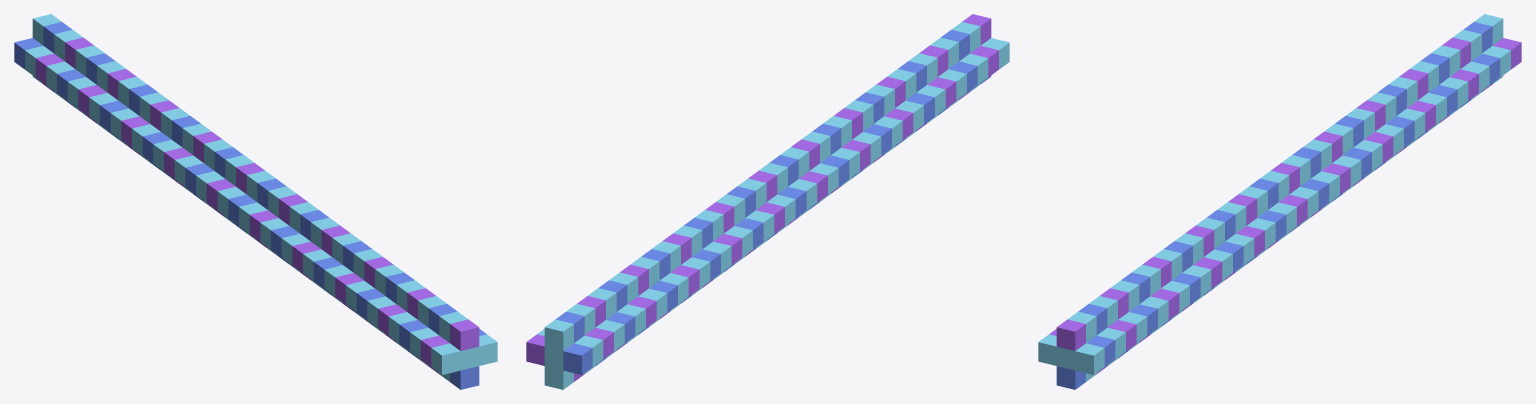
The model's file is AstromancerCelestialBeam.obj.
3 views of the same model, side by side, from view 1: azimuth 30°, elevation 25°; view 2: azimuth 150°, elevation 25°; view 3: azimuth 330°, elevation 25° (orthographic).
Parts seen in each view (by area): view 1: AstromancerCelestialBeam; view 2: AstromancerCelestialBeam; view 3: AstromancerCelestialBeam.
Part boxes in pixels (x1,y1,x2,y2): AstromancerCelestialBeam: (14,14,497,389); AstromancerCelestialBeam: (526,14,1009,389); AstromancerCelestialBeam: (1038,14,1521,389).
Bounding box in the file's own units: 3 × 3 × 40.
